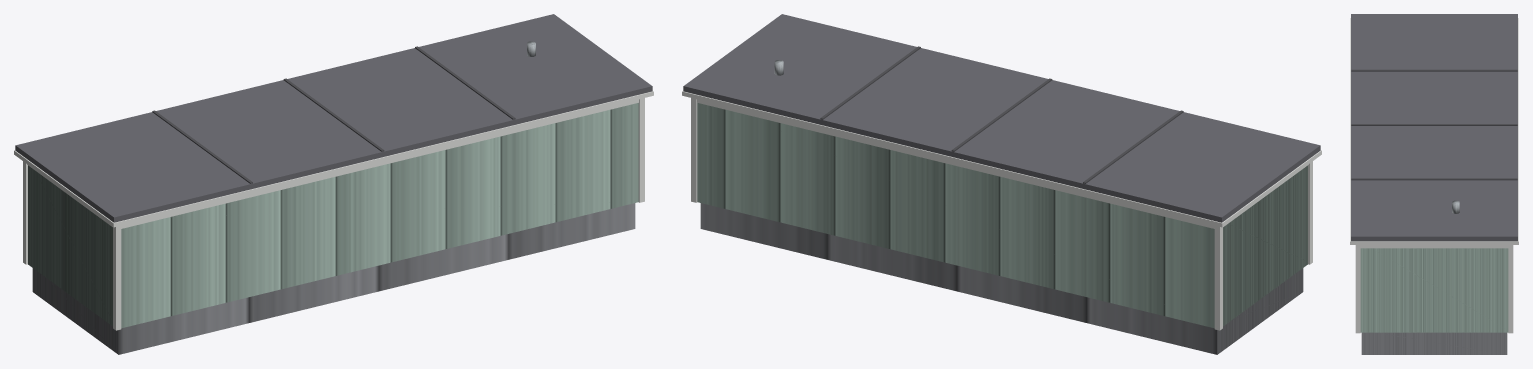
File: WK_ARCH_Trailer_A.glb
3 renders of one model, left to right at view 1: azimuth 30°, elevation 25°; view 2: azimuth 150°, elevation 25°; view 3: azimuth 270°, elevation 25°, orthographic. The views are drawn at different scales.
Visible parts, largest first — view 1: WK_ARCH_Trailer_A_P01, WK_ARCH_Trailer_A_P02, WK_ARCH_Trailer_A_P04, WK_ARCH_Trailer_A_P03, WK_ARCH_Trailer_A_P05, WK_ARCH_Trailer_A_P06, WK_ARCH_Trailer_A_P08, WK_ARCH_Trailer_A_P07; view 2: WK_ARCH_Trailer_A_P01, WK_ARCH_Trailer_A_P02, WK_ARCH_Trailer_A_P04, WK_ARCH_Trailer_A_P03, WK_ARCH_Trailer_A_P05, WK_ARCH_Trailer_A_P07, WK_ARCH_Trailer_A_P09, WK_ARCH_Trailer_A_P06; view 3: WK_ARCH_Trailer_A_P02, WK_ARCH_Trailer_A_P01, WK_ARCH_Trailer_A_P04, WK_ARCH_Trailer_A_P03, WK_ARCH_Trailer_A_P05, WK_ARCH_Trailer_A_P08, WK_ARCH_Trailer_A_P09, WK_ARCH_Trailer_A_P10, WK_ARCH_Trailer_A_P12, WK_ARCH_Trailer_A_P11.
Boxes of the visible parts, left/top/right/bottom form: WK_ARCH_Trailer_A_P01: left=28, top=103, right=638, bottom=328; WK_ARCH_Trailer_A_P02: left=15, top=14, right=652, bottom=222; WK_ARCH_Trailer_A_P04: left=32, top=203, right=635, bottom=354; WK_ARCH_Trailer_A_P03: left=14, top=91, right=653, bottom=227; WK_ARCH_Trailer_A_P05: left=27, top=99, right=638, bottom=228; WK_ARCH_Trailer_A_P06: left=113, top=226, right=121, bottom=330; WK_ARCH_Trailer_A_P08: left=638, top=98, right=644, bottom=202; WK_ARCH_Trailer_A_P07: left=23, top=161, right=27, bottom=264; WK_ARCH_Trailer_A_P01: left=697, top=103, right=1307, bottom=328; WK_ARCH_Trailer_A_P02: left=683, top=14, right=1320, bottom=222; WK_ARCH_Trailer_A_P04: left=700, top=203, right=1303, bottom=354; WK_ARCH_Trailer_A_P03: left=682, top=91, right=1321, bottom=227; WK_ARCH_Trailer_A_P05: left=697, top=99, right=1308, bottom=228; WK_ARCH_Trailer_A_P07: left=1214, top=226, right=1222, bottom=330; WK_ARCH_Trailer_A_P09: left=691, top=98, right=697, bottom=202; WK_ARCH_Trailer_A_P06: left=1308, top=161, right=1312, bottom=264; WK_ARCH_Trailer_A_P02: left=1351, top=14, right=1517, bottom=241; WK_ARCH_Trailer_A_P01: left=1360, top=248, right=1508, bottom=332; WK_ARCH_Trailer_A_P04: left=1361, top=332, right=1507, bottom=354; WK_ARCH_Trailer_A_P03: left=1350, top=18, right=1518, bottom=244; WK_ARCH_Trailer_A_P05: left=1360, top=245, right=1508, bottom=248; WK_ARCH_Trailer_A_P08: left=1355, top=245, right=1360, bottom=333; WK_ARCH_Trailer_A_P09: left=1508, top=245, right=1513, bottom=333; WK_ARCH_Trailer_A_P10: left=1351, top=69, right=1517, bottom=71; WK_ARCH_Trailer_A_P12: left=1351, top=178, right=1517, bottom=180; WK_ARCH_Trailer_A_P11: left=1351, top=124, right=1517, bottom=125.
Size of the model in its own units: 12.34 by 3.42 by 3.94.
7 materials, 3 textured.
